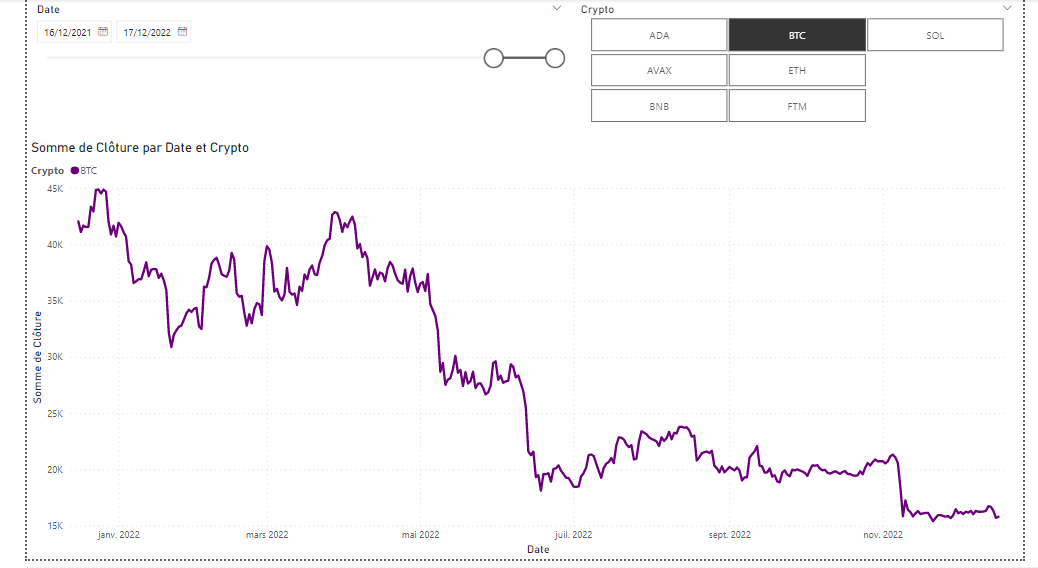

The page's visual inventory and layout, read from the dashboard file:
{"tool":"powerbi","page":{"name":"Page 1","canvas":[1280,720],"ordinal":0},"visuals":[{"type":"lineChart","fields":{"Y":["Sum(Requête1.Clôture)"],"Series":["Requête1.Crypto"],"Category":["Requête1.Date"]},"box":[0,181.4,1280,539.2],"z":0},{"type":"slicer","fields":{"Values":["Requête1.Date"]},"box":[0,0,700.5,164.6],"z":1},{"type":"slicer","fields":{"Values":["Requête1.Crypto"]},"box":[700,0,580,165],"z":2}]}

Visuals, with their boxes in screenshot pixels (x1, y1, x2, y2), scaled from the page's 1280x720 canvas onto the 1038x568 screenshot:
lineChart - Sum(Requête1.Clôture) x Requête1.Crypto: 0:143:1037:567
slicer - Requête1.Date: 0:0:568:130
slicer - Requête1.Crypto: 568:0:1037:130
